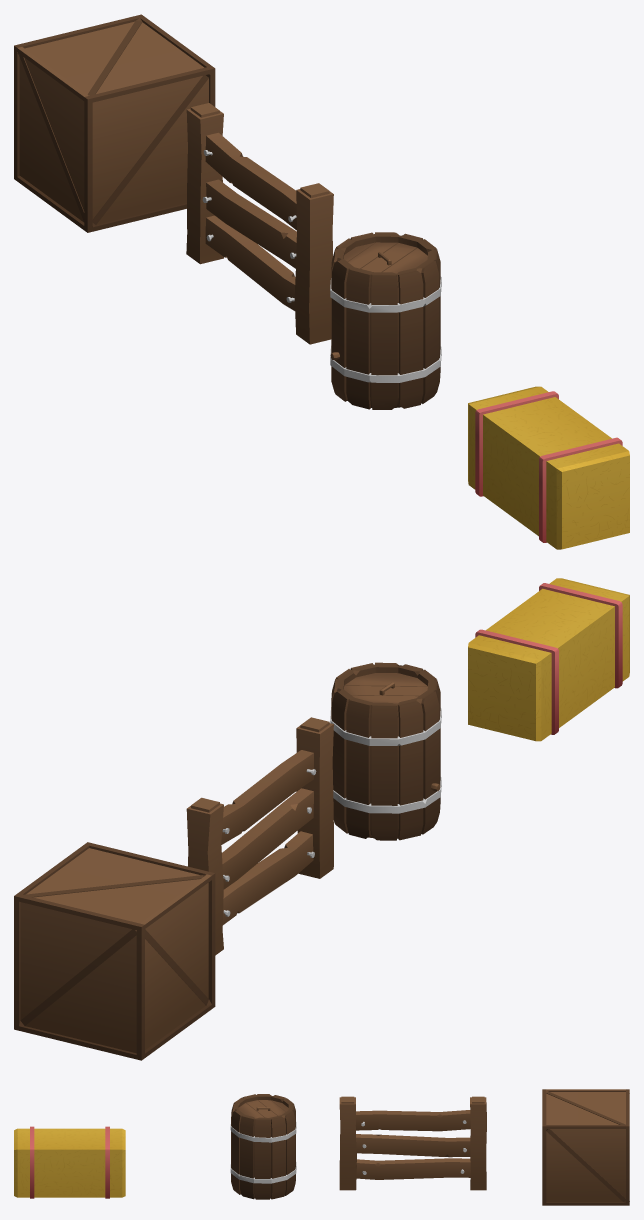
File: LowPolyWood.fbx
The picture shows the model from 3 angles, top to bottom: view 1: azimuth 30°, elevation 25°; view 2: azimuth 150°, elevation 25°; view 3: azimuth 270°, elevation 25°; orthographic projection. The views are drawn at different scales.
Parts seen in each view (by area): view 1: Box, Haystack, Barrel, Plank, Fence, Box.001, Cylind; view 2: Box, Haystack, Barrel, Plank, Fence, Box.001, Cylind; view 3: Box, Haystack, Plank, Barrel, Fence, Box.001, Cylind.
Part boxes in pixels (x1,y1,x2,y2): Box: (14, 14, 215, 232); Haystack: (468, 386, 629, 549); Barrel: (330, 232, 440, 409); Plank: (205, 132, 296, 310); Fence: (186, 103, 333, 344); Box.001: (17, 18, 209, 226); Cylind: (330, 276, 441, 382); Box: (14, 842, 215, 1060); Haystack: (468, 578, 629, 741); Barrel: (331, 662, 440, 840); Plank: (221, 750, 314, 925); Fence: (186, 717, 333, 955); Box.001: (19, 874, 211, 1026); Cylind: (330, 707, 441, 813); Box: (542, 1089, 629, 1205); Haystack: (14, 1126, 125, 1198); Plank: (356, 1110, 470, 1179); Barrel: (231, 1094, 295, 1199); Fence: (339, 1096, 486, 1190); Box.001: (546, 1090, 625, 1202); Cylind: (230, 1122, 296, 1183).
Bounding box in the file's own units: 13.73 × 15.25 × 96.21.
